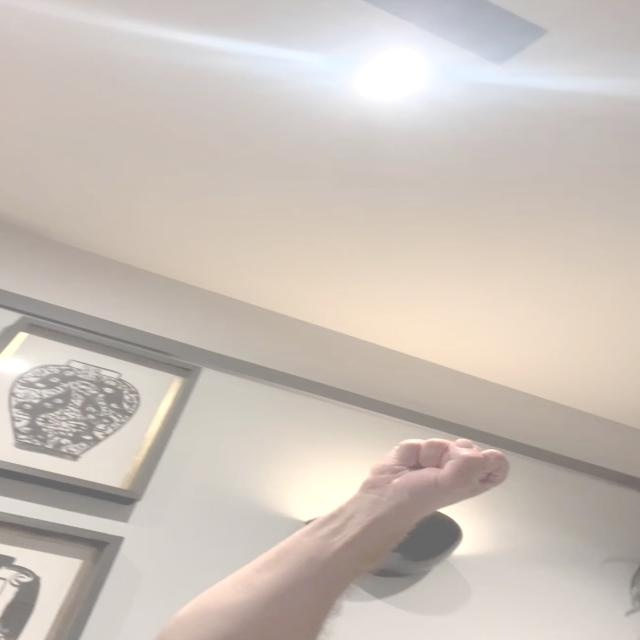Rock: (357, 434, 511, 508)
